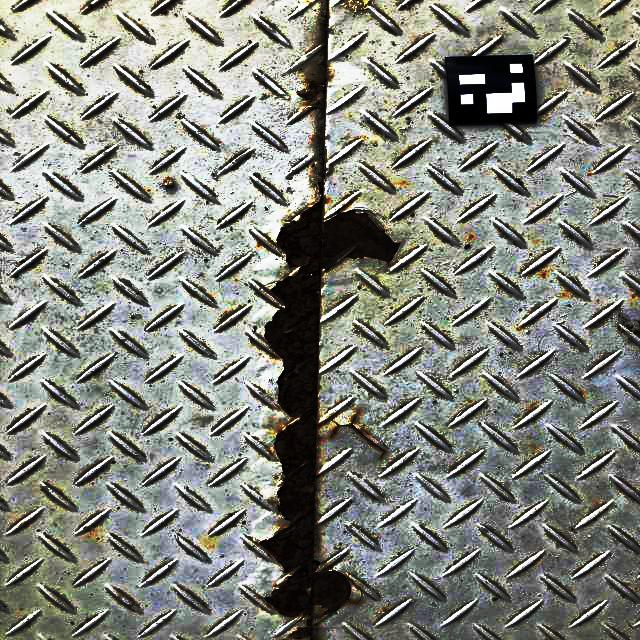Corrosion: (261, 201, 398, 640), (296, 76, 325, 100), (318, 64, 325, 75)
